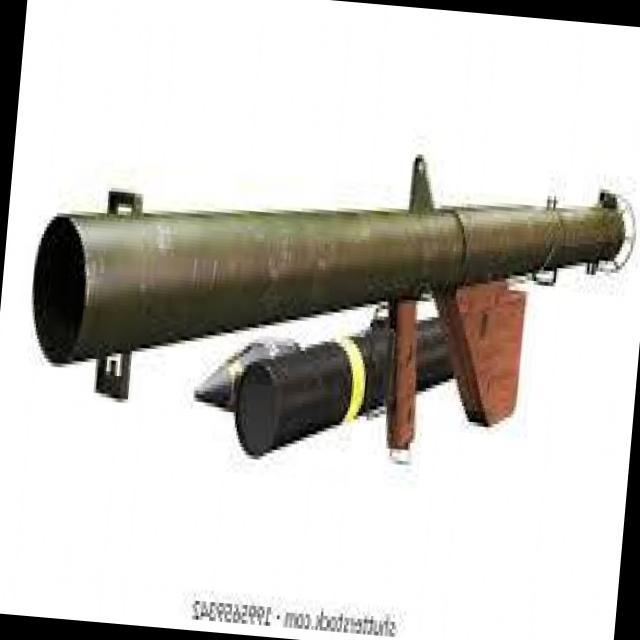rocket: (20, 129, 640, 479)
